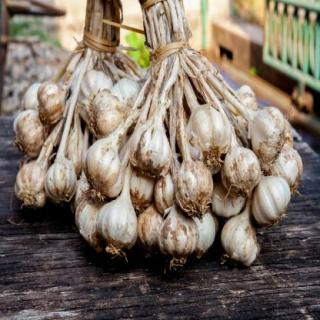Bawang Putih: (187, 106, 233, 168), (84, 138, 125, 199), (97, 200, 139, 255), (251, 107, 287, 168), (252, 176, 292, 227)
